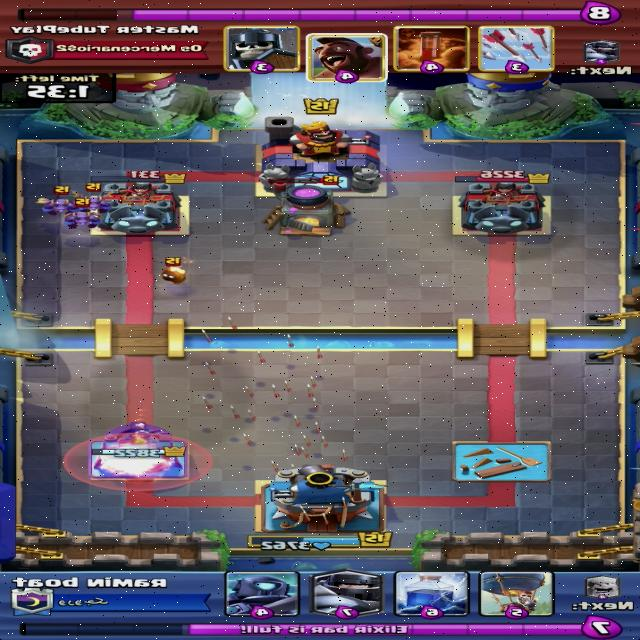Enemy-FireSpirit: (158, 256, 189, 285)
Enemy-Furnace: (261, 175, 351, 236)
Enemy-Minion: (37, 185, 85, 216), (72, 183, 112, 213), (63, 198, 100, 229)
